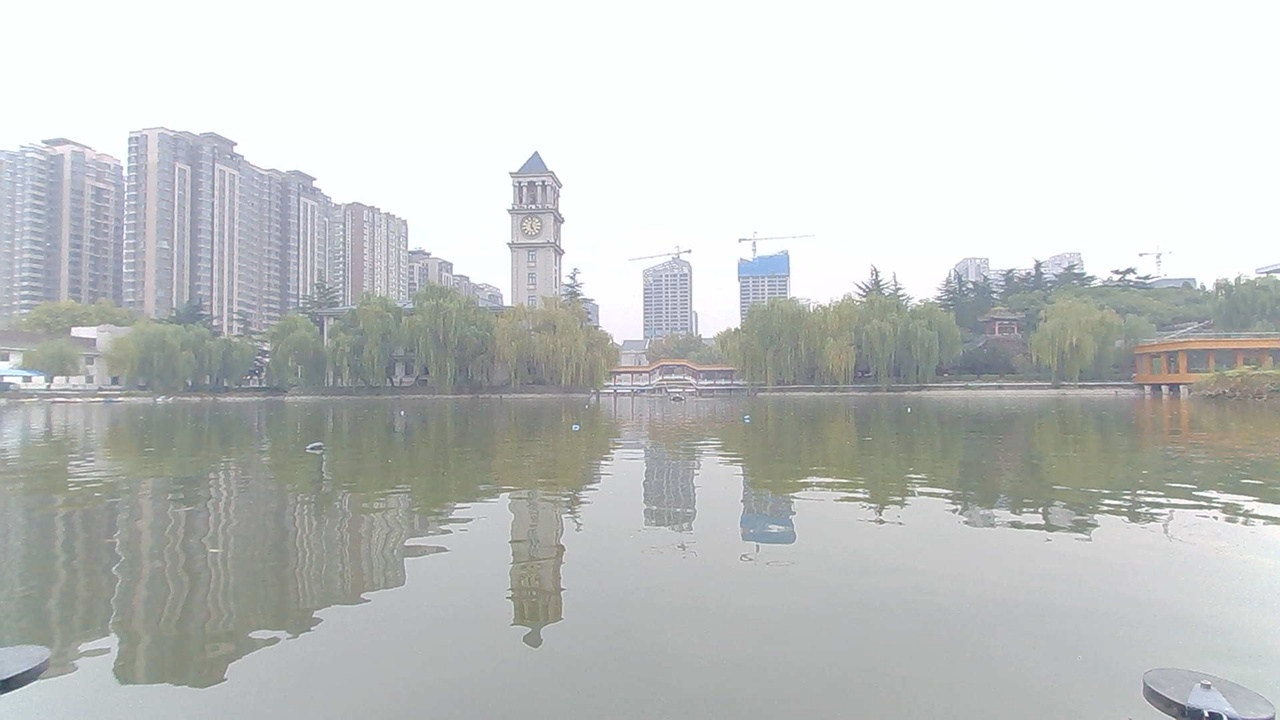bottle: (302, 432, 339, 461), (388, 397, 425, 426), (727, 412, 761, 439), (909, 401, 939, 427), (563, 424, 600, 445), (580, 399, 609, 421)
